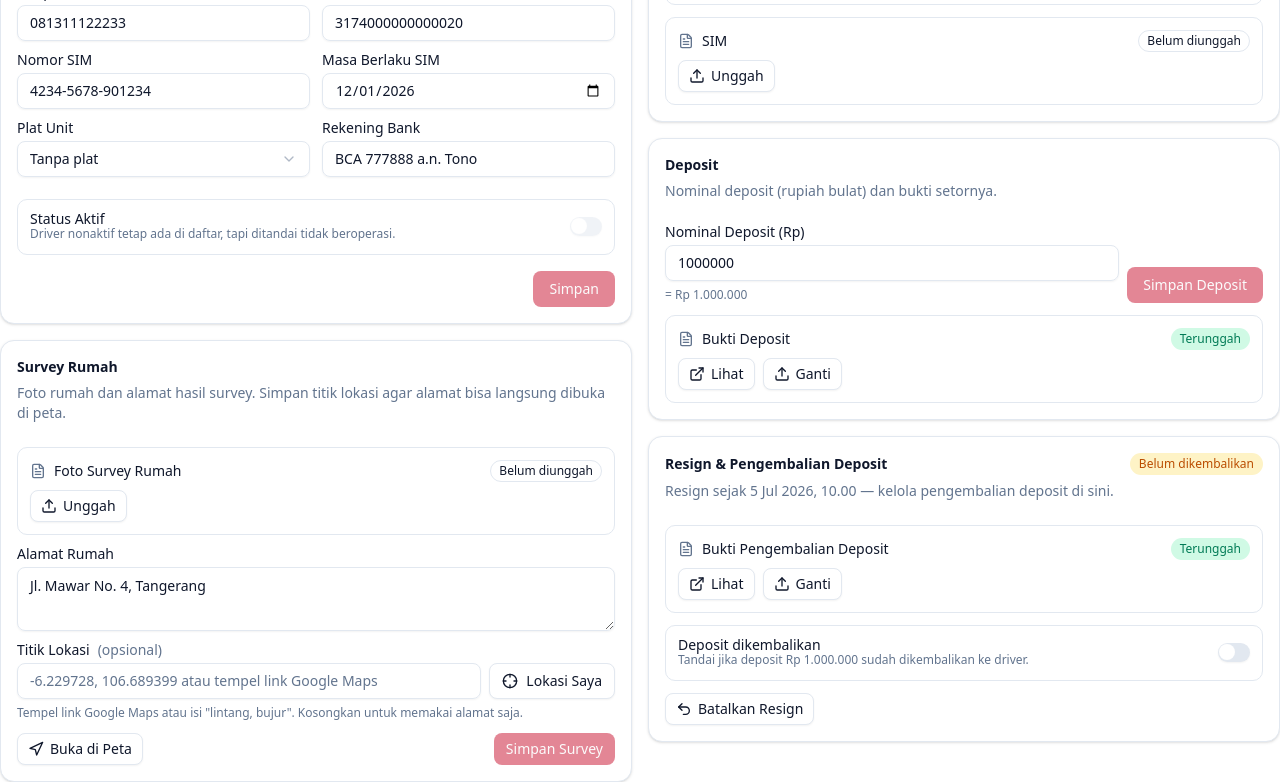
Test: Halaman edit driver — resign & pengembalian deposit › un-resigns a driver and resets the deposit-return state
The image size is (1280, 782).
(page scrolled)
Click the button "Batalkan Resign".
click(740, 708)  # box x1=665 y1=692 x2=814 y2=724
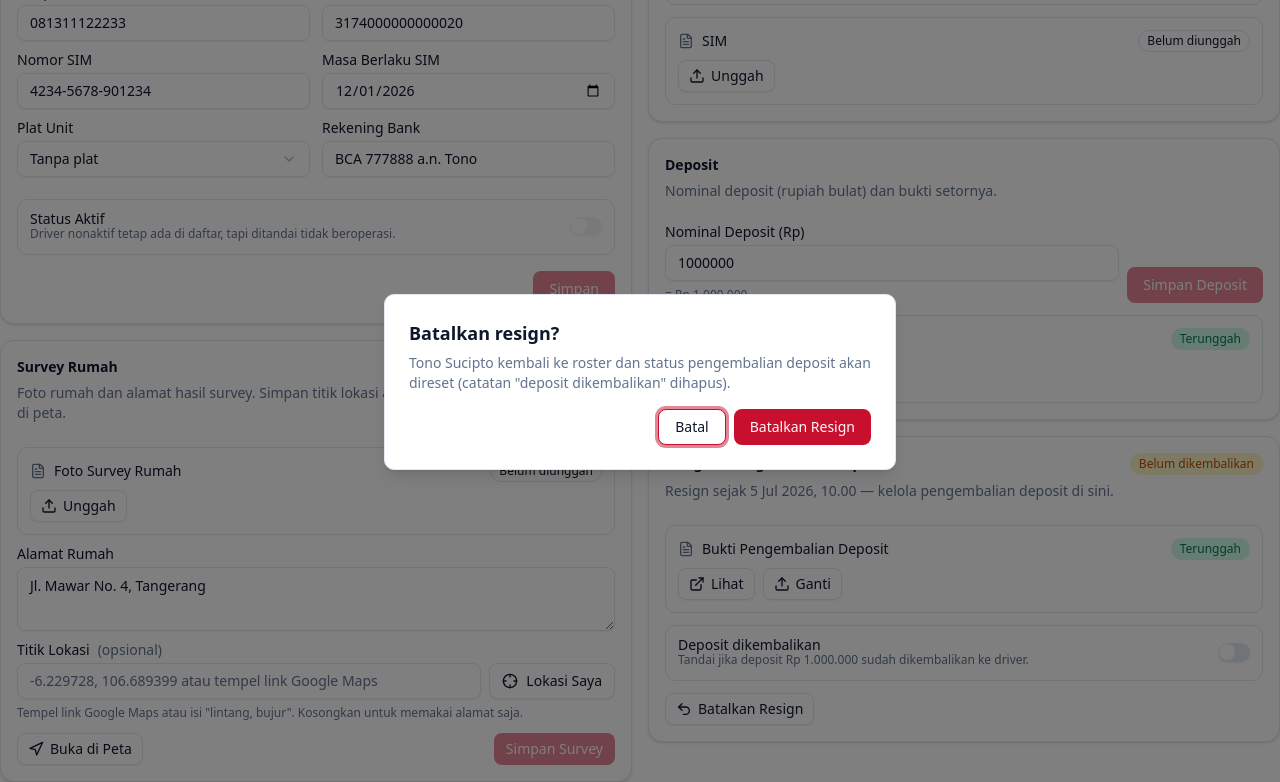
Click the button "Batalkan Resign".
click(802, 427)  # box x1=734 y1=409 x2=871 y2=445
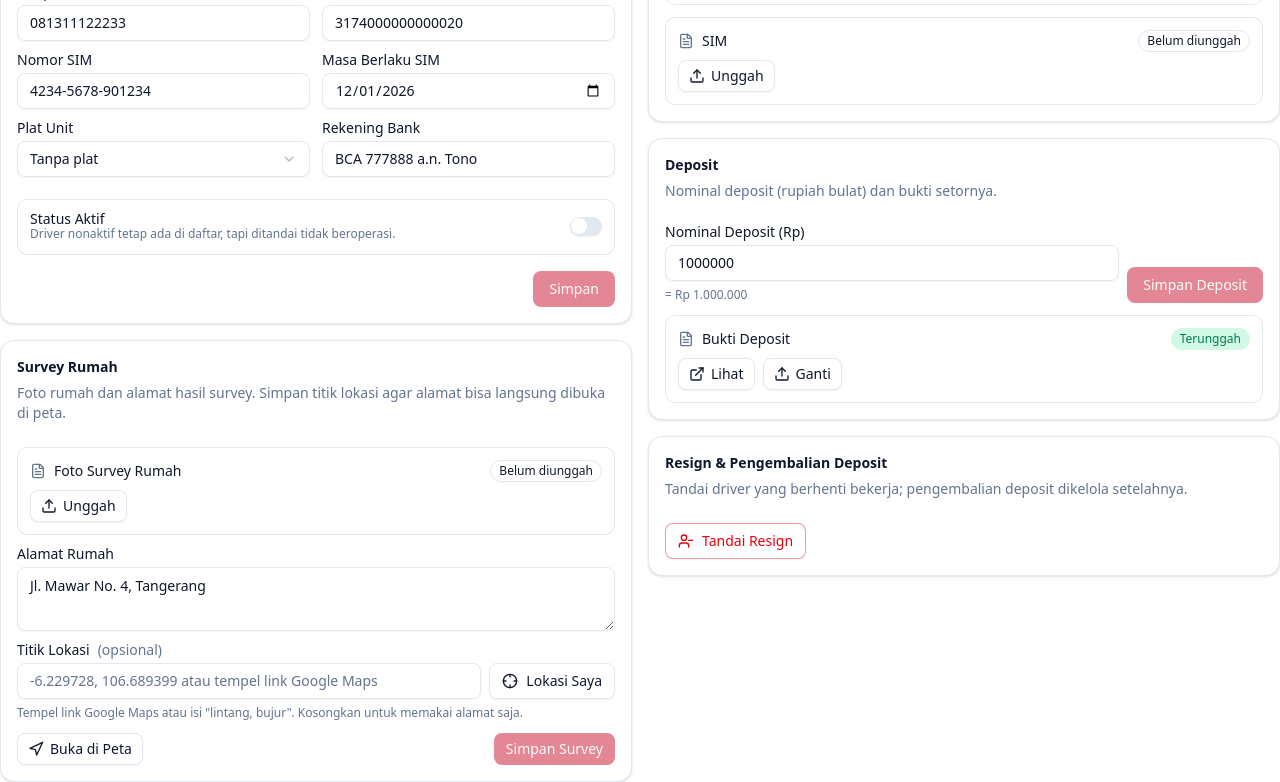
Check: the button "Tandai Resign" is shown, box x1=665 y1=522 x2=806 y2=558
Check: the label "Deposit dikembalikan" is gone
